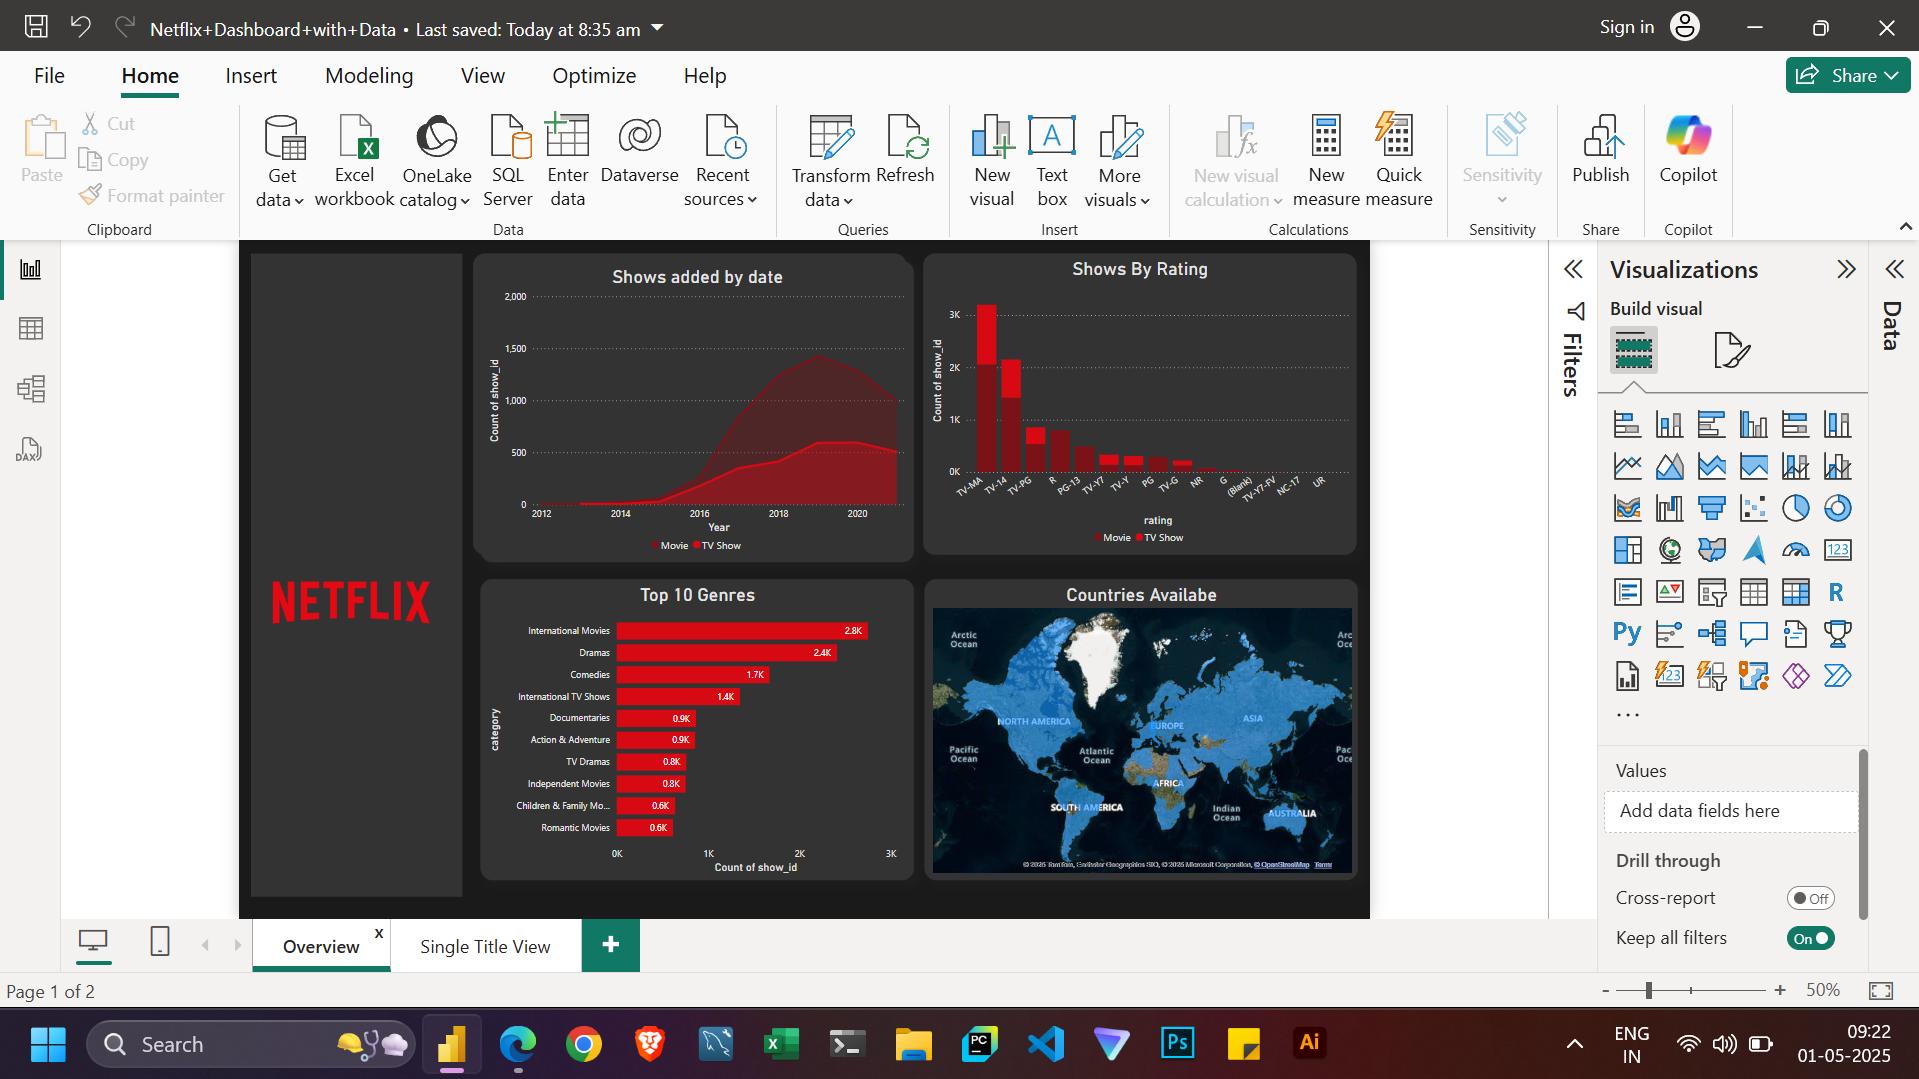

The page's visual inventory and layout, read from the dashboard file:
{"tool":"powerbi","page":{"name":"Overview","canvas":[1500,900],"ordinal":0},"visuals":[{"type":"shape","box":[15.9,17.9,280.3,853],"z":0},{"type":"areaChart","title":"Shows added by date","fields":{"Series":["netflix_data titles.type"],"Y":["CountNonNull(netflix_data netflix_listed_in.show_id)"],"Category":["netflix_data titles.date_added.Variation.Date Hierarchy.Year"]},"box":[310.2,17.9,574.6,399.6],"z":1000},{"type":"columnChart","title":"Shows By Rating","fields":{"Category":["netflix_data titles.rating"],"Series":["netflix_data titles.type"],"Y":["Count(netflix_data netflix_listed_in.show_id)"]},"box":[906.6,17.9,574.6,399.6],"z":2000},{"type":"clusteredBarChart","title":"Top 10 Genres","fields":{"Category":["netflix_data netflix_listed_in.category"],"Y":["Count(netflix_data netflix_listed_in.show_id)"]},"box":[320.1,449.3,574.6,399.6],"z":3000},{"type":"areaChart","title":"Shows added by date","fields":{"Series":["netflix_data titles.type"],"Y":["Count(netflix_data netflix_listed_in.show_id)"],"Category":["netflix_data titles.date_added.Variation.Date Hierarchy.Year"]},"box":[320.2,27.9,574.6,399.6],"z":4000},{"type":"filledMap","title":"Countries Availabe","fields":{"Category":["netflix_data countries_released.country"]},"box":[908.6,449.3,574.6,399.6],"z":5000},{"type":"image","box":[15.5,343.3,265.8,265.8],"z":6000}]}

Visuals, with their boxes on the page's 1500x900 design canvas (x1, y1, x2, y2). These are canvas units, not pixel positions in the 1919x1079 screenshot, which may show the page scaled, cropped or inside an application window:
shape: 16:18:296:871
"Shows added by date" areaChart: 310:18:885:418
"Shows By Rating" columnChart: 907:18:1481:418
"Top 10 Genres" clusteredBarChart: 320:449:895:849
"Shows added by date" areaChart: 320:28:895:428
"Countries Availabe" filledMap: 909:449:1483:849
image: 16:343:281:609
